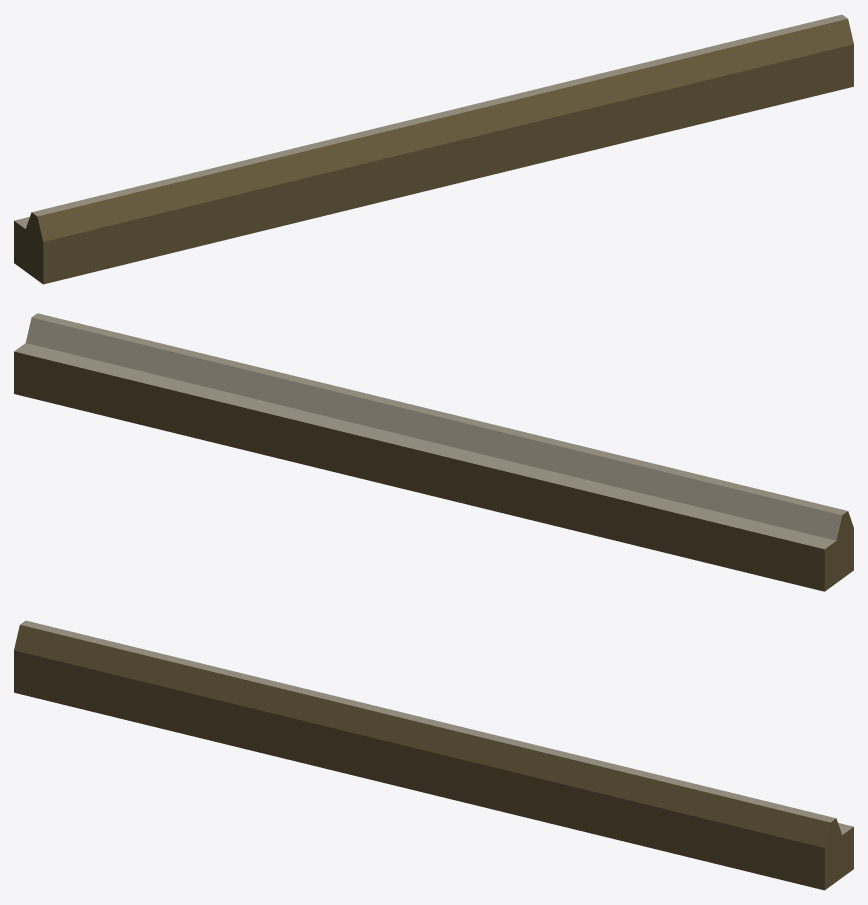
Rendered from Divider.fbx.
3 views of the same model, one above another, from view 1: azimuth 30°, elevation 25°; view 2: azimuth 150°, elevation 25°; view 3: azimuth 330°, elevation 25° (orthographic).
Visible parts, largest first — view 1: cuboid; view 2: cuboid; view 3: cuboid.
Boxes of the visible parts, box(x1,y1,x2,y2) form: cuboid: box(14, 14, 853, 284); cuboid: box(14, 313, 853, 591); cuboid: box(14, 620, 853, 890).
Size of the model in its own units: 25 by 1.88 by 1.56.
1 material, 1 textured.
